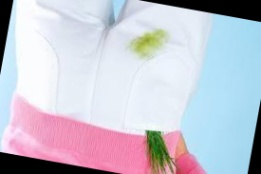earth: (128, 26, 164, 59)
